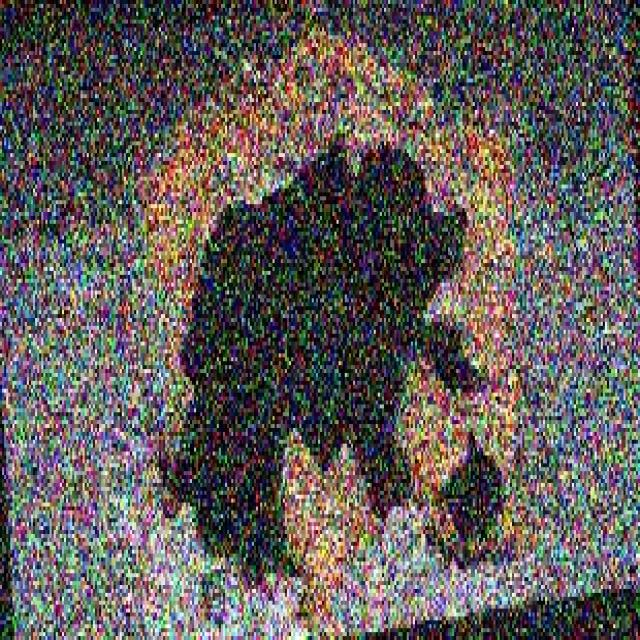Hole: (110, 0, 562, 636)
